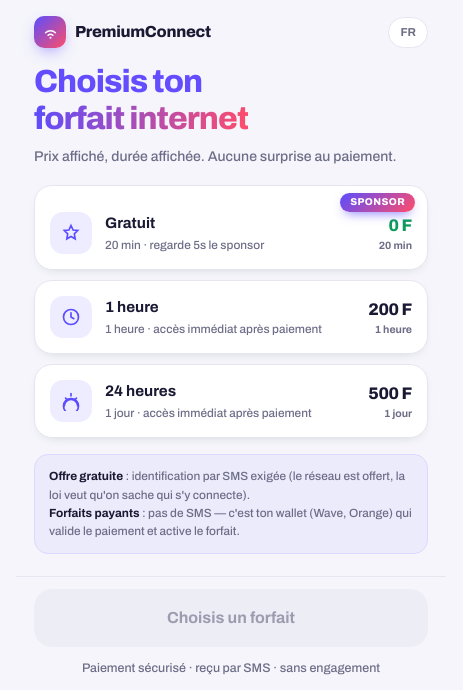
clic gratuit → rend AuthBox (parcours OTP réutilisé, pas réinventé)
Later steps or results of the test are not shown.
expect the element with test id "instant-packs" is shown: met, box left=34, top=185, right=428, bottom=438
Click the button with test id "instant-plan-plan-free" at (378, 203), box left=34, top=185, right=428, bottom=270
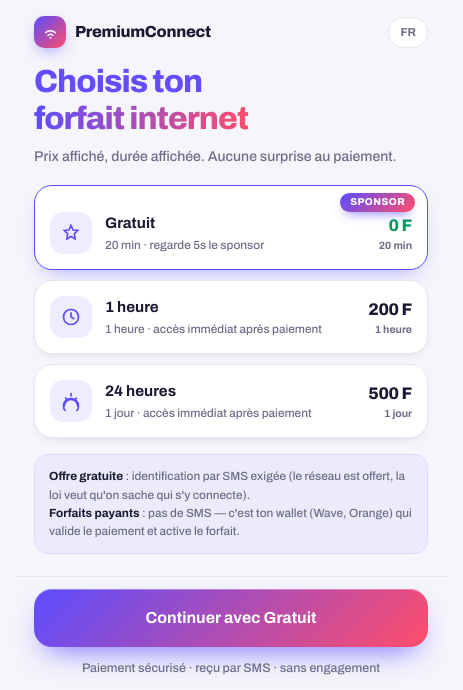
expect the button with test id "instant-cta" shows "Gratuit": met, box left=34, top=589, right=428, bottom=647
